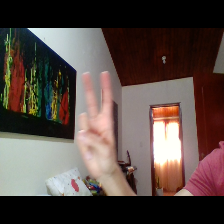KP: (70, 68, 126, 185)
